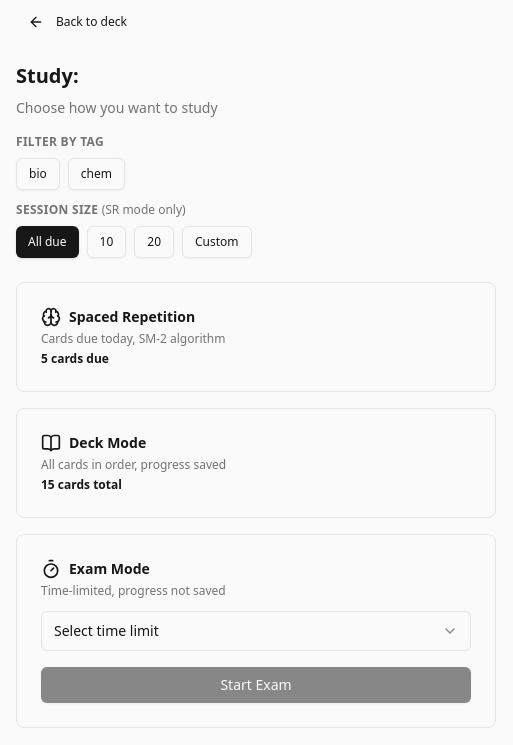
StudySessionPage config section › STUDY-02d: clicking Custom button reveals number input (spinbutton)
Expected: the text "Session size (SR mode only)" is shown, [16,201,186,218]
Click the button "Custom". click: (217, 242)
box: [182,226,252,258]
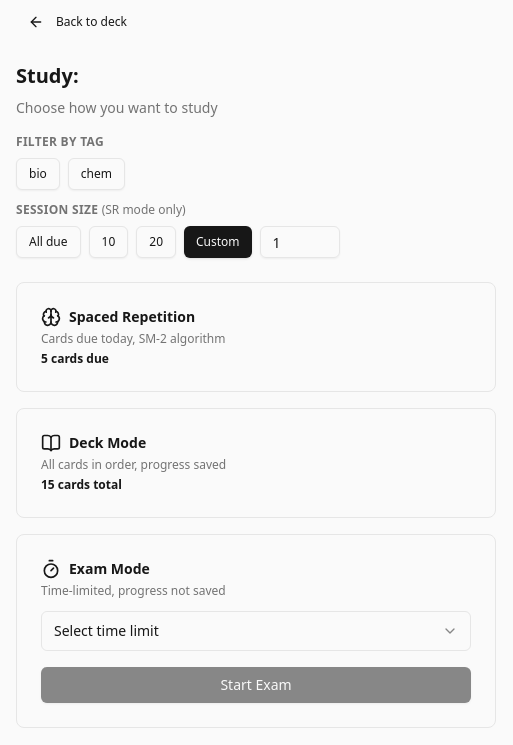
Expected: the number field is shown, [260,226,340,258]
